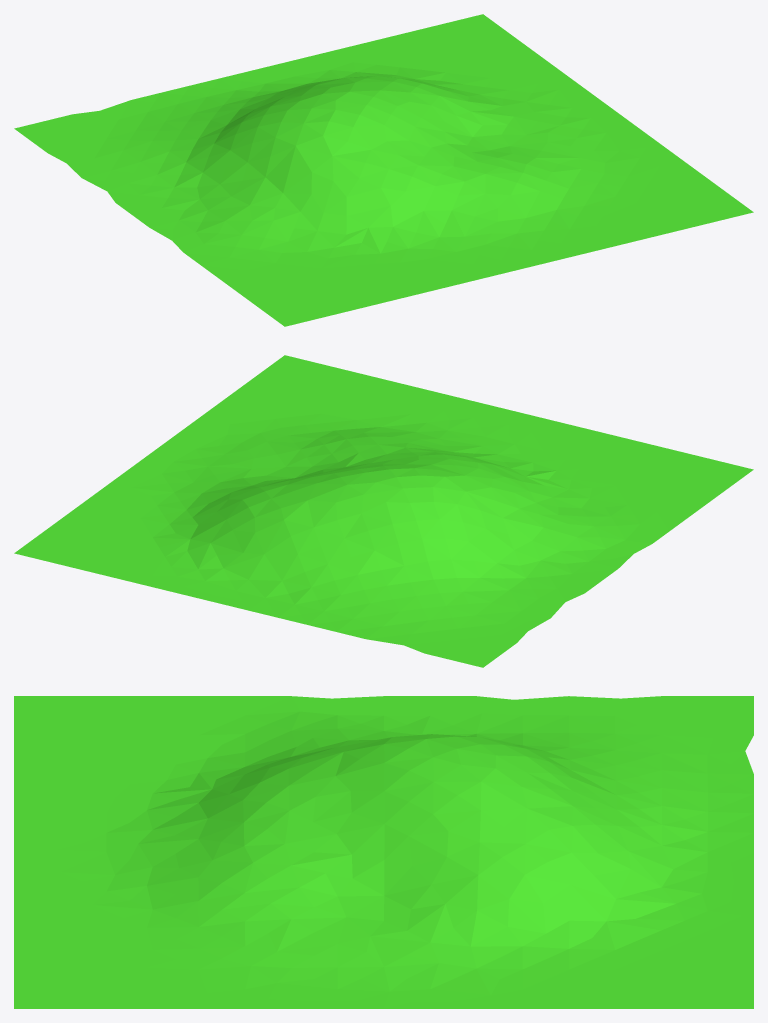
File: Mointain 0.fbx
The picture shows the model from 3 angles, top to bottom: view 1: azimuth 30°, elevation 25°; view 2: azimuth 150°, elevation 25°; view 3: azimuth 270°, elevation 25°; orthographic projection. The views are drawn at different scales.
Parts seen in each view (by area): view 1: Plane; view 2: Plane; view 3: Plane.
Boxes of the visible parts, x1,y1,x2,y2 form: Plane: [14, 14, 753, 326]; Plane: [14, 355, 753, 667]; Plane: [14, 696, 753, 1008].
Bounding box in the file's own units: 1165 × 130 × 1165.
